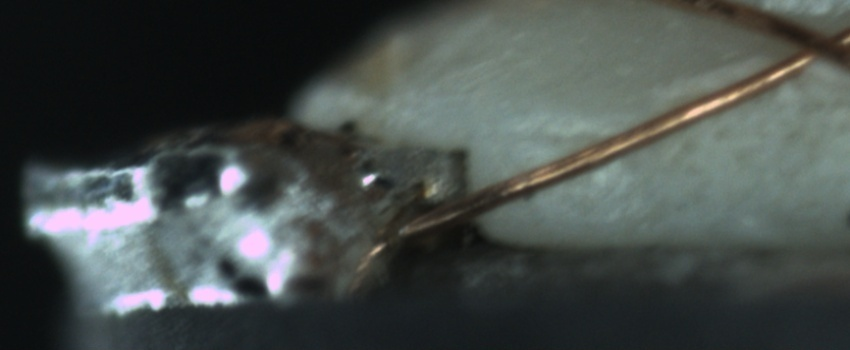CL: (769, 12, 849, 76)
DL: (502, 105, 633, 169)
